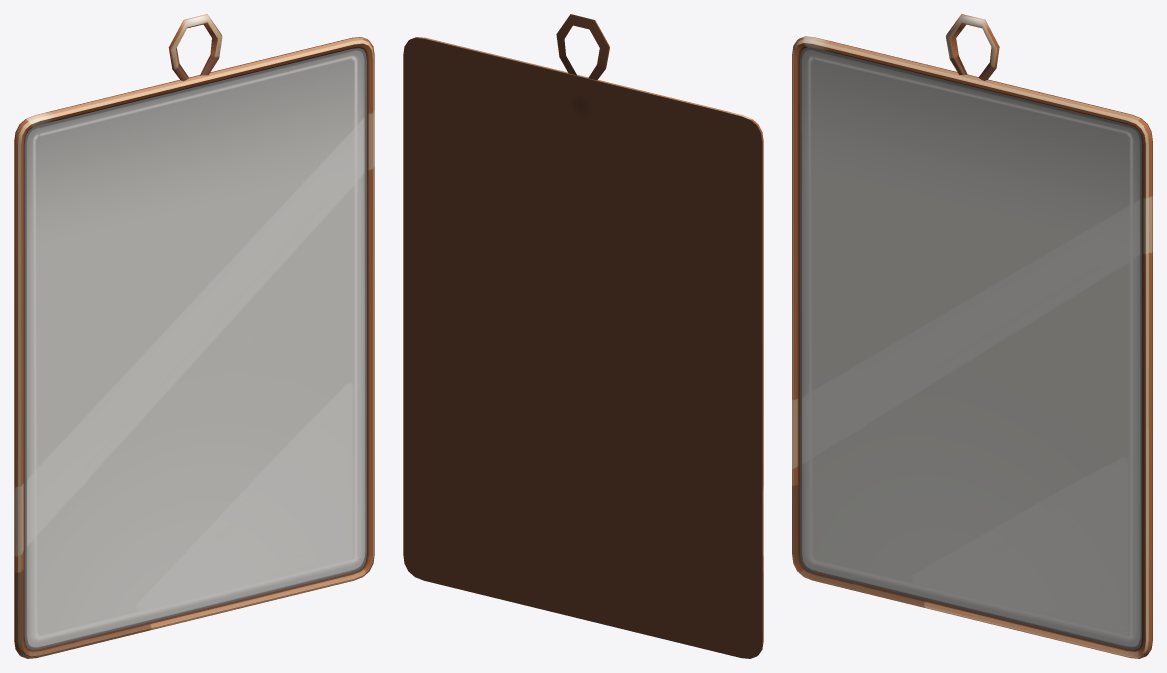
The model's file is bathroom_mirror.fbx.
The picture shows the model from 3 angles, left to right: view 1: azimuth 30°, elevation 25°; view 2: azimuth 150°, elevation 25°; view 3: azimuth 330°, elevation 25°; orthographic projection.
Visible parts, largest first — view 1: bathroom_mirror; view 2: bathroom_mirror; view 3: bathroom_mirror.
Boxes of the visible parts, <box> form: bathroom_mirror: <box>14,14,374,658</box>; bathroom_mirror: <box>403,14,763,658</box>; bathroom_mirror: <box>792,14,1152,658</box>.
Size of the model in its own units: 43.04 by 68.94 by 0.745.
